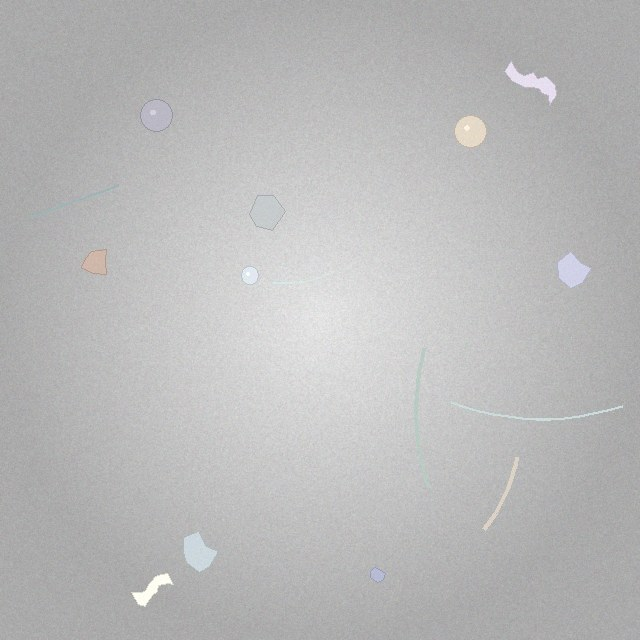fiber: (448, 399, 626, 423), (26, 182, 122, 221), (479, 453, 521, 534), (411, 344, 433, 493), (271, 270, 336, 286)
film: (505, 61, 556, 105), (132, 574, 174, 607)
fragment: (184, 531, 219, 573), (557, 251, 591, 289), (249, 195, 285, 230), (81, 250, 107, 275), (370, 568, 386, 583)
pellet: (454, 115, 486, 148), (140, 100, 172, 132), (241, 267, 259, 284)
